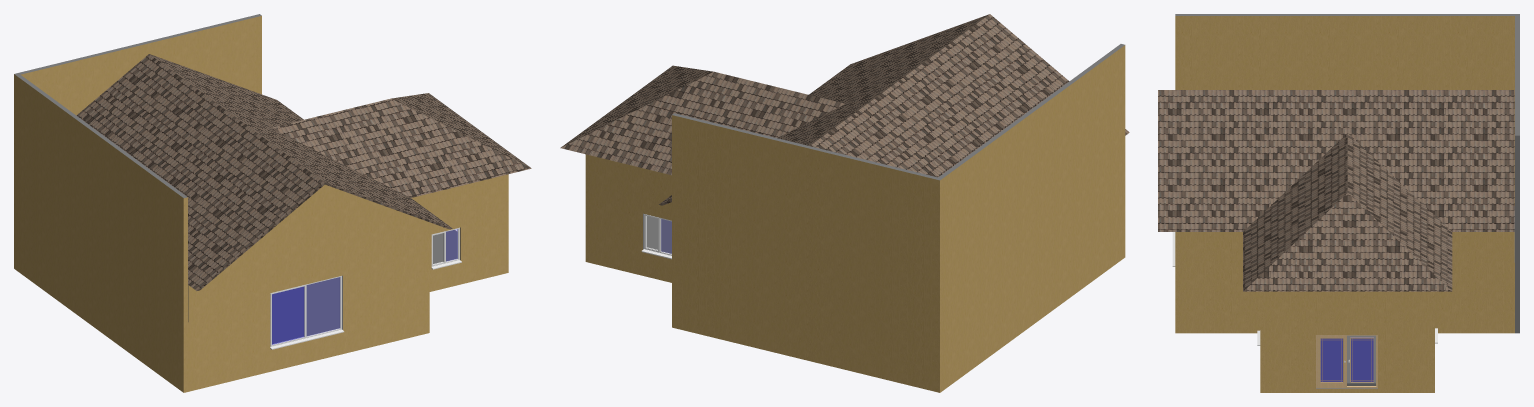
File: casinhamaterialSketch.obj
3 views of the same model, side by side, from view 1: azimuth 30°, elevation 25°; view 2: azimuth 150°, elevation 25°; view 3: azimuth 270°, elevation 25° (orthographic). The views are drawn at different scales.
Visible parts, largest first — view 1: Mesh1 Model; view 2: Mesh1 Model; view 3: Mesh1 Model, Mesh4 Model, Mesh5 Model.
Boxes of the visible parts, box(x1,y1,x2,y2) form: Mesh1 Model: box(14, 14, 531, 392); Mesh1 Model: box(560, 14, 1129, 392); Mesh1 Model: box(1158, 14, 1519, 392); Mesh4 Model: box(1317, 335, 1346, 386); Mesh5 Model: box(1350, 337, 1373, 382).
Size of the model in its own units: 6.71 by 3.27 by 5.43.
Materials: 8 (3 with a texture image).
